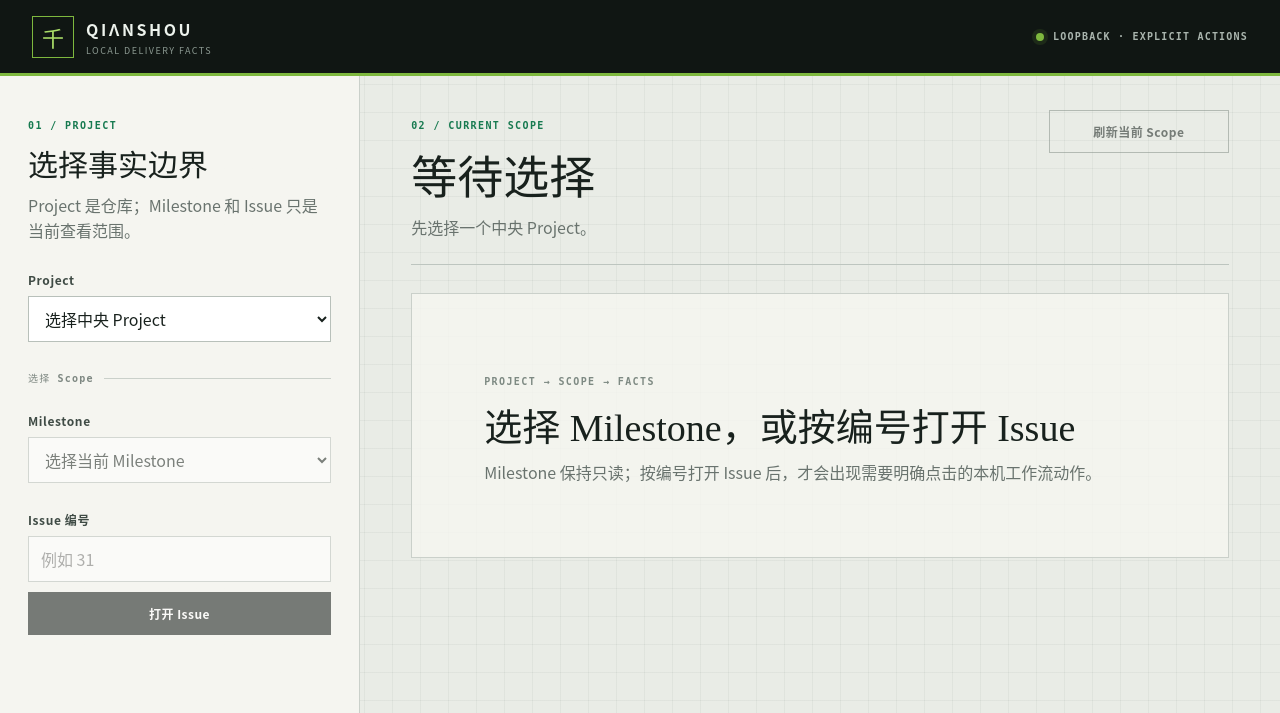
Test: dynamic Project and Scope navigation › keeps the same Issue number isolated by Project
Select "qianshou · ai-daming/qianshou" in the dropdown labelled "Project" at point(180, 319), box [28,296,331,342]
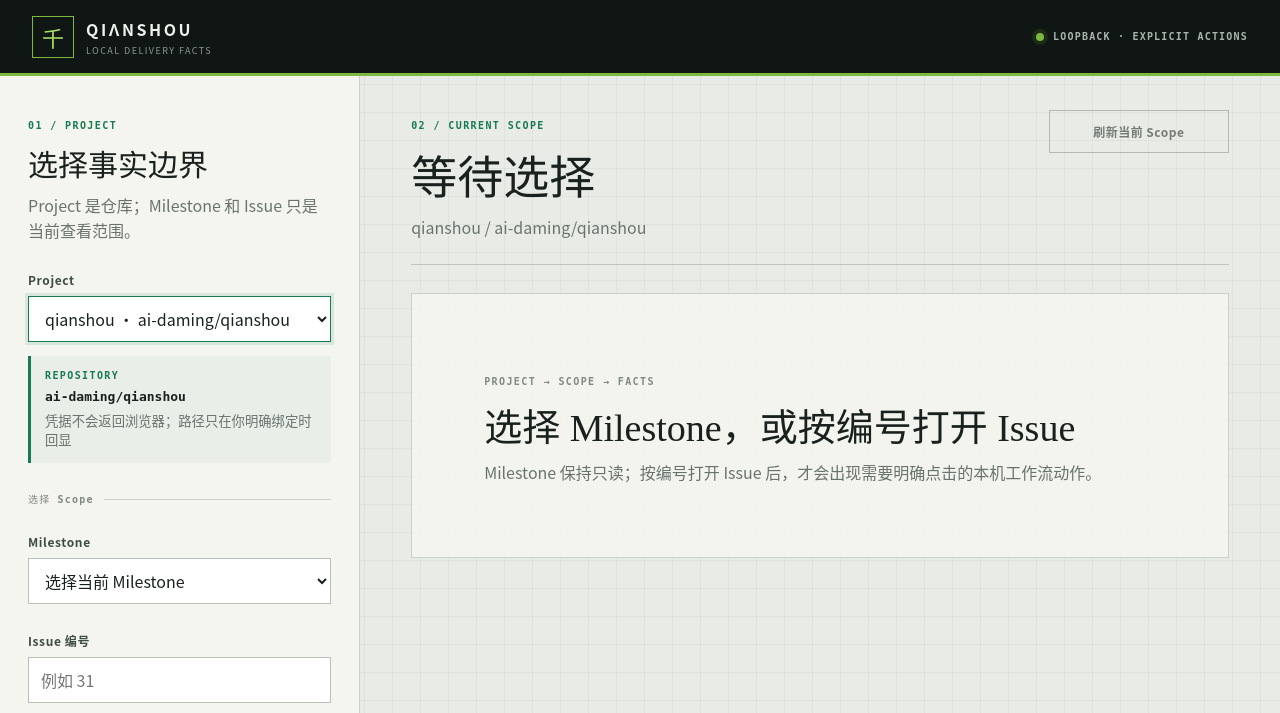
Select "#1 · Qianshou M1 · OPEN" in the dropdown labelled "Milestone" at point(180, 581), box [28,558,331,604]
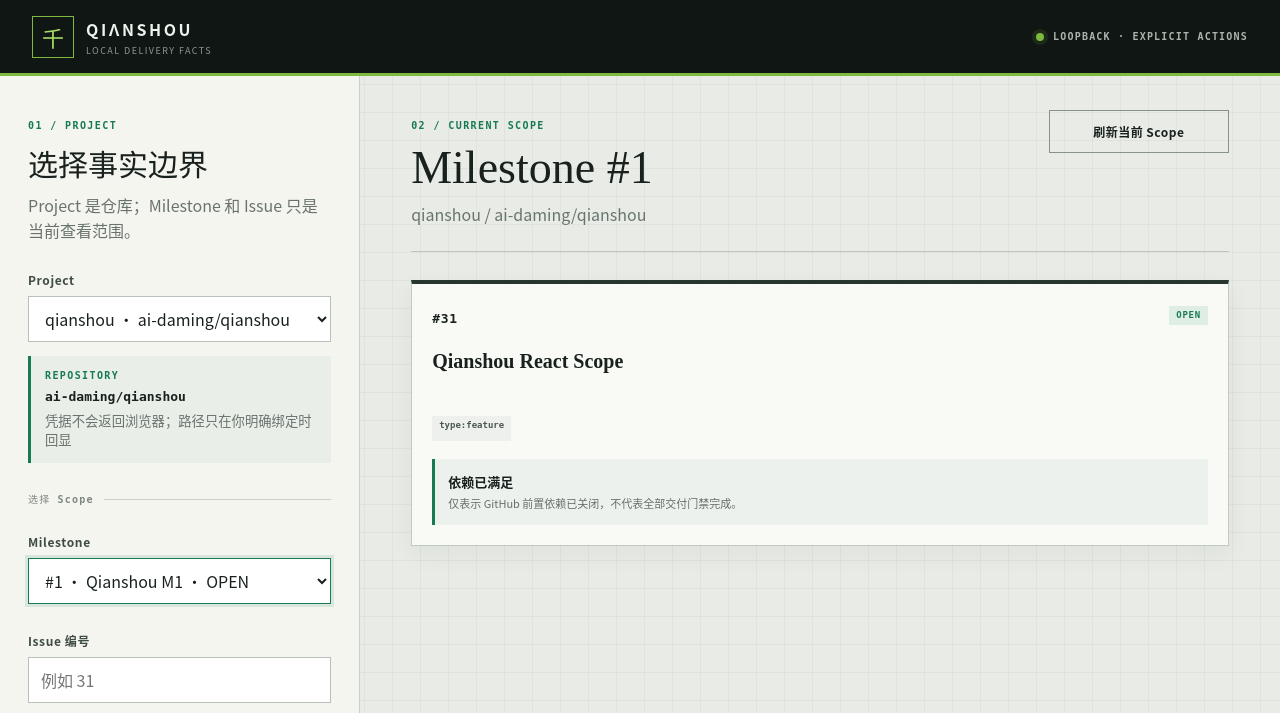
Now the heading "Qianshou React Scope" is shown, box [432,350,623,372]
Select "mamamate · ai-daming/mamamate" in the dropdown labelled "Project" at point(180, 319), box [28,296,331,342]
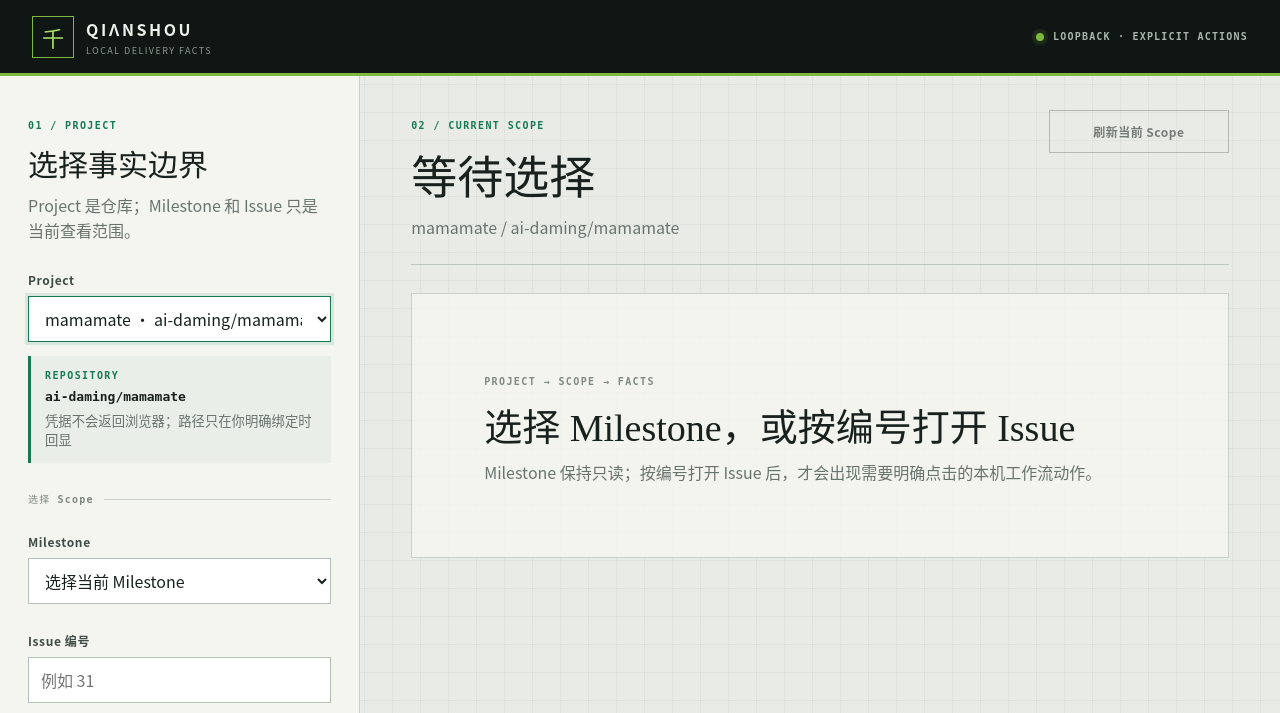
Now the heading "Qianshou React Scope" is gone
Select "#7 · Mamamate M7 · OPEN" in the dropdown labelled "Milestone" at point(180, 581), box [28,558,331,604]
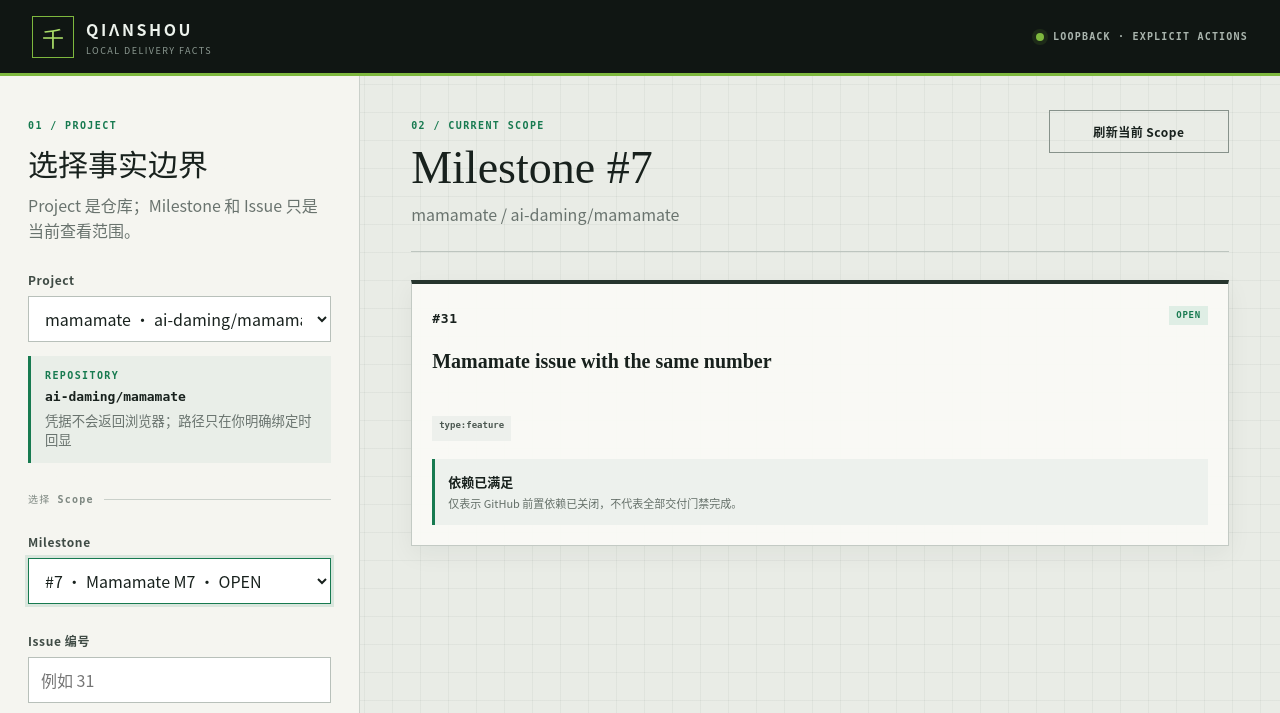
Now the heading "Mamamate issue with the same number" is shown, box [432,350,772,372]
